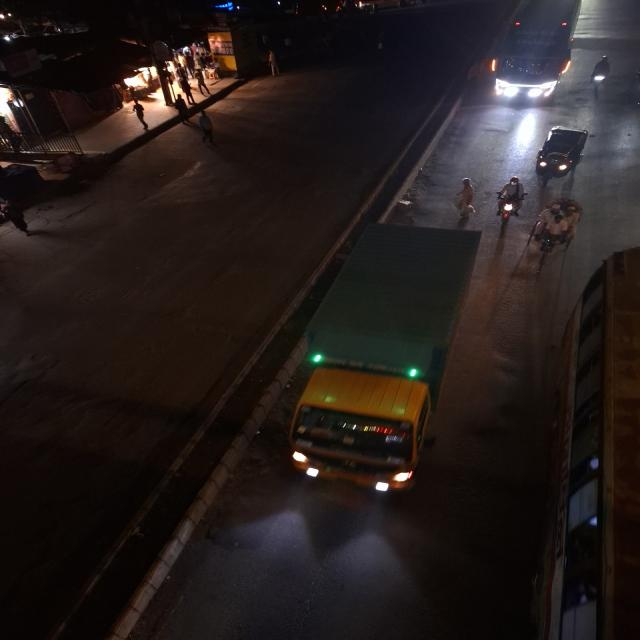bus: (489, 0, 587, 106)
cng: (533, 122, 594, 188)
motorcycle: (493, 173, 527, 229), (587, 53, 614, 96), (395, 187, 425, 217)
pedestrian: (450, 175, 480, 225), (188, 110, 220, 146), (128, 100, 149, 126)
rickshaw: (527, 196, 588, 268)
truck: (290, 225, 488, 517)
